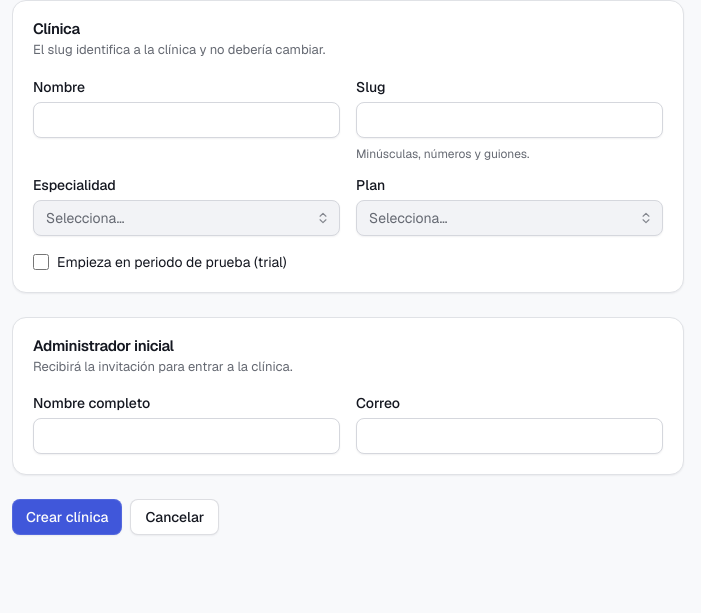
Test case: CreateClinicForm › valida en el cliente los campos obligatorios
Click the button "Crear clínica" at x=67, y=517, box [12,499,122,535]
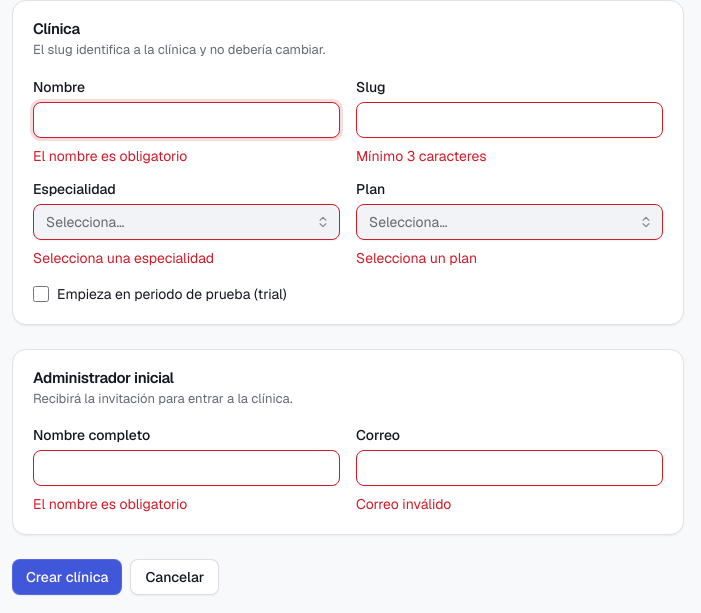
Now the text "Selecciona una especialidad" is shown, box [33,248,214,266]
Now the text "Selecciona un plan" is shown, box [356,248,477,266]
Now the text "Correo inválido" is shown, box [356,495,451,513]
